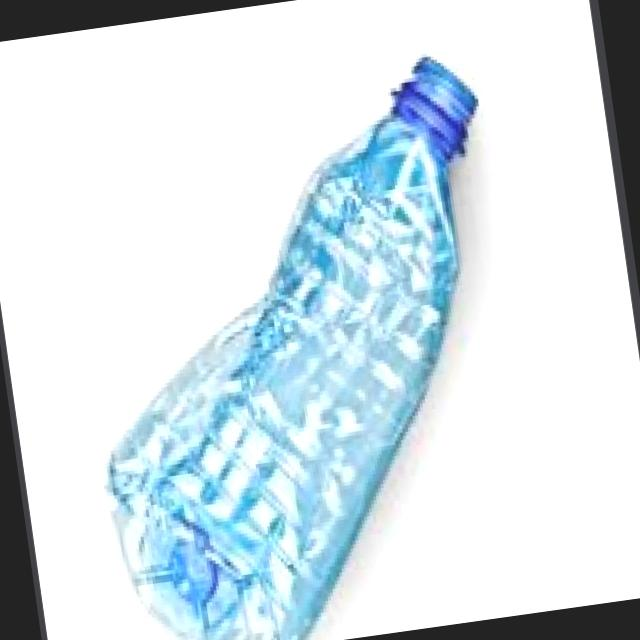Recycle: (54, 43, 554, 640)
